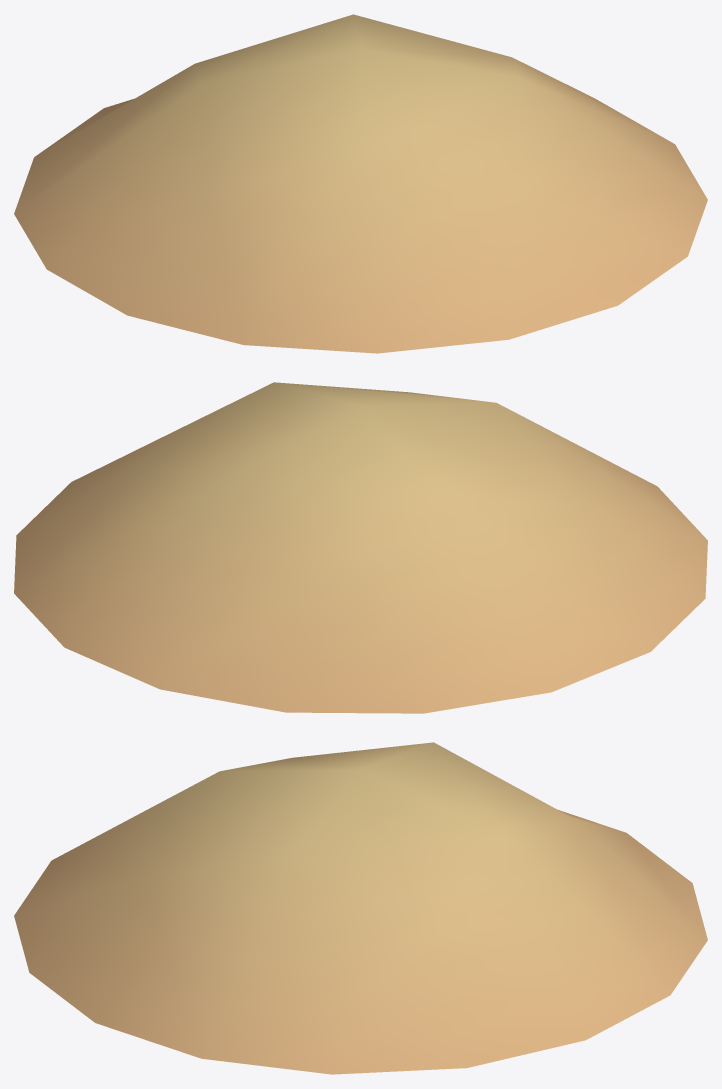
Rendered from SandPile1.fbx.
3 renders of one model, top to bottom at view 1: azimuth 30°, elevation 25°; view 2: azimuth 150°, elevation 25°; view 3: azimuth 270°, elevation 25°, orthographic.
Parts seen in each view (by area): view 1: Plane.268; view 2: Plane.268; view 3: Plane.268.
Part boxes in pixels (x1,y1,x2,y2): Plane.268: (14, 14, 707, 353); Plane.268: (14, 382, 707, 713); Plane.268: (14, 742, 707, 1074).
Size of the model in its own units: 291 by 73.24 by 291.
